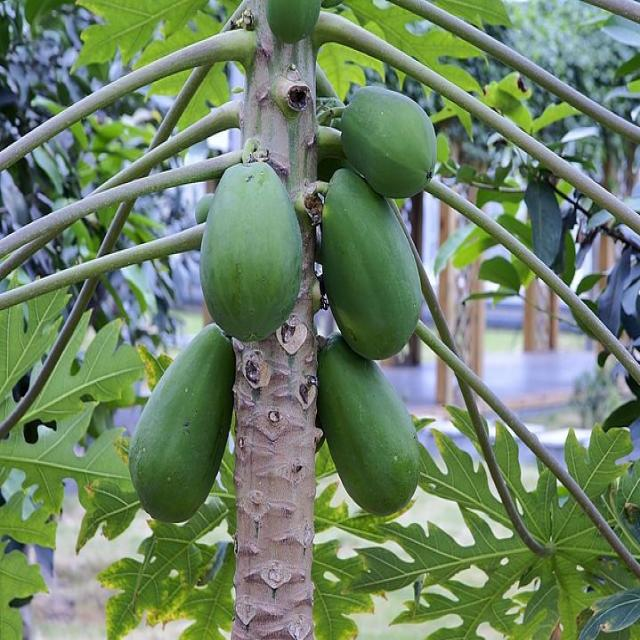Pepaya unrippen: (128, 316, 239, 519), (201, 154, 312, 352), (308, 184, 427, 360), (327, 361, 422, 512), (334, 81, 447, 200)
